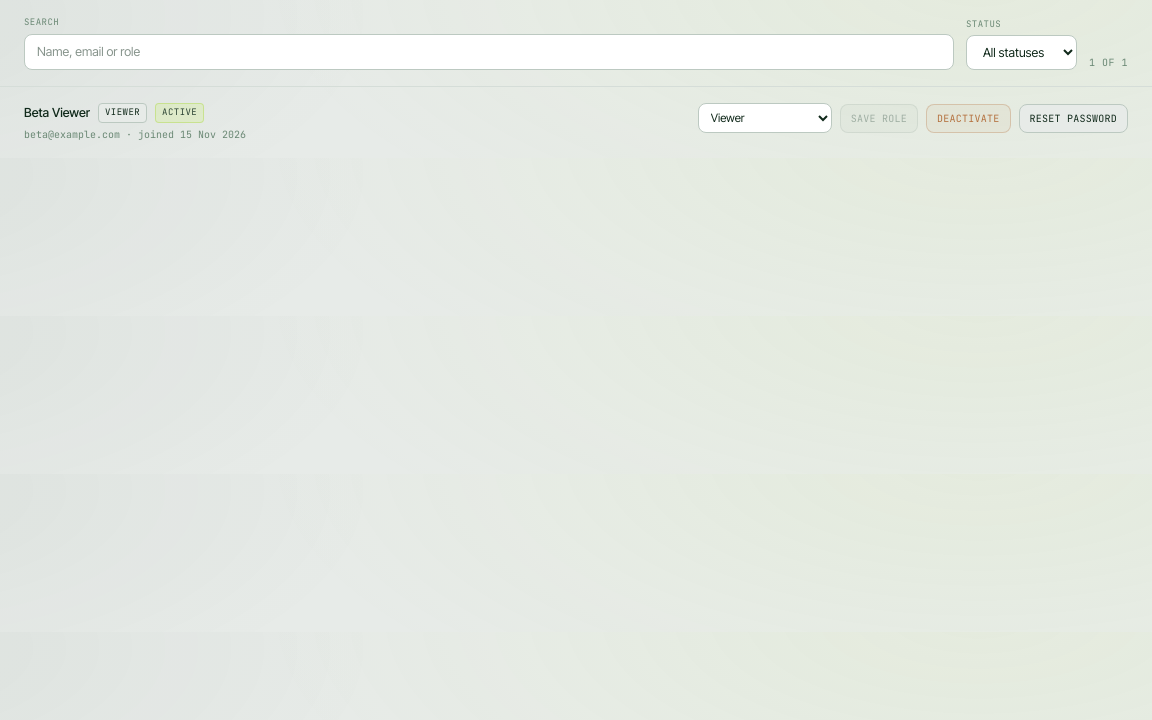
Test: member roster › issues a password reset after explaining its consequences
What coordinates should you click on to do the following:
click the button "Reset password"
I would click on:
 (1073, 118)
Its box is [1018,104,1128,133].
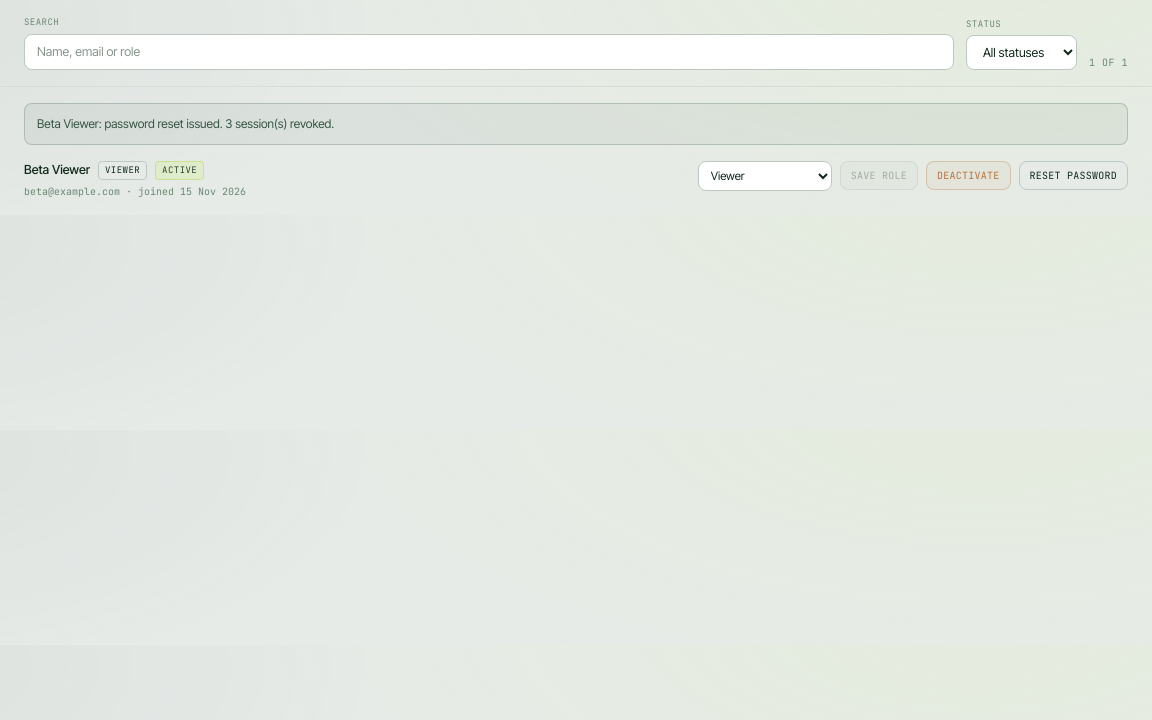
Expected: the message "Beta Viewer: password reset issued. 3 session(s) revoked." is shown, [24,103,1128,145]
Expected: the message shows "3 session(s) revoked", [37,116,334,131]
